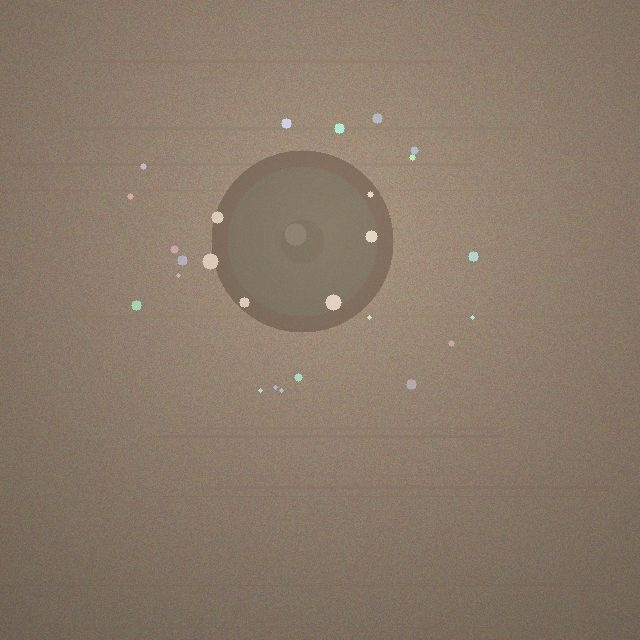overburn: (211, 150, 393, 332)
